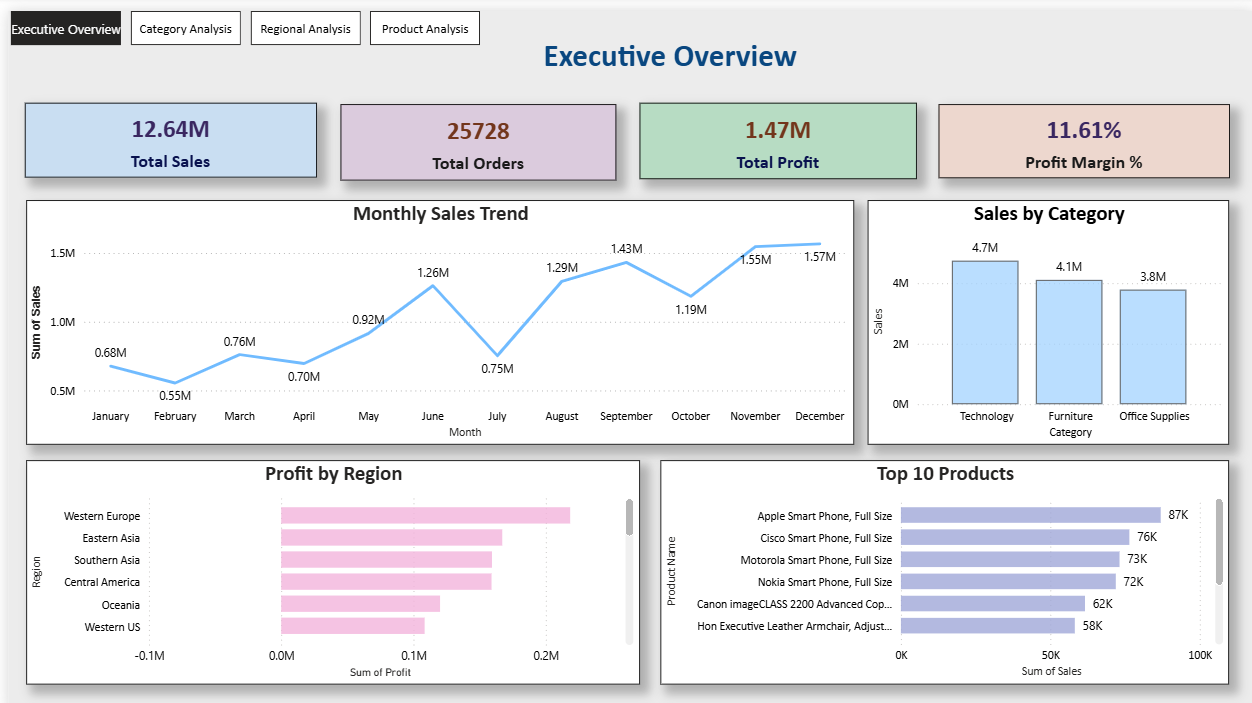

What the dashboard file says about the page in this screenshot:
{"tool":"powerbi","page":{"name":"Executive Overview","canvas":[1280,720],"ordinal":0},"visuals":[{"type":"card","fields":{"Values":["Sum(Orders.Sales)"]},"box":[17.1,94.3,300,77.1],"z":0},{"type":"card","fields":{"Values":["Sum(Orders.Profit)"]},"box":[648.8,93.8,285,78.8],"z":1000},{"type":"card","fields":{"Values":["Count(Orders.Order ID)"]},"box":[341.4,95.3,283.5,78.4],"z":2000},{"type":"card","fields":{"Values":["Orders.Profit Margin %"]},"box":[955.5,95.3,299.2,76],"z":3000},{"type":"lineChart","title":"Monthly Sales Trend","fields":{"Category":["Orders.Order Date.Variation.Date Hierarchy.Month"],"Y":["Sum(Orders.Sales)"]},"box":[18.6,194.3,850,251.4],"z":4000},{"type":"clusteredColumnChart","fields":{"Category":["Orders.Category"],"Y":["Sum(Orders.Sales)"]},"box":[882.9,194.3,371.4,251.4],"z":5000},{"type":"clusteredBarChart","title":"Profit by Region","fields":{"Category":["Orders.Region"],"Y":["Sum(Orders.Profit)"]},"box":[18.6,461.4,630,230],"z":6000},{"type":"clusteredBarChart","title":"Top 10 Products","fields":{"Category":["Orders.Product Name"],"Y":["Sum(Orders.Sales)"]},"box":[670,461.4,584.3,230],"z":7000},{"type":"textbox","box":[386.2,21.2,588.8,51.2],"z":8000},{"type":"pageNavigator","box":[3.3,0,483.3,35],"z":8001}]}

Visuals, with their boxes in screenshot pixels (x1, y1, x2, y2), scaled from the page's 1280x720 canvas onto the 1252x703 screenshot:
card - Sum(Orders.Sales): 17 92 310 167
card - Sum(Orders.Profit): 635 92 913 169
card - Count(Orders.Order ID): 334 93 611 170
card - Orders.Profit Margin %: 935 93 1227 167
"Monthly Sales Trend" lineChart: 18 190 850 435
clusteredColumnChart - Orders.Category x Sum(Orders.Sales): 864 190 1227 435
"Profit by Region" clusteredBarChart: 18 451 634 675
"Top 10 Products" clusteredBarChart: 655 451 1227 675
textbox: 378 21 954 71
pageNavigator: 3 0 476 34
